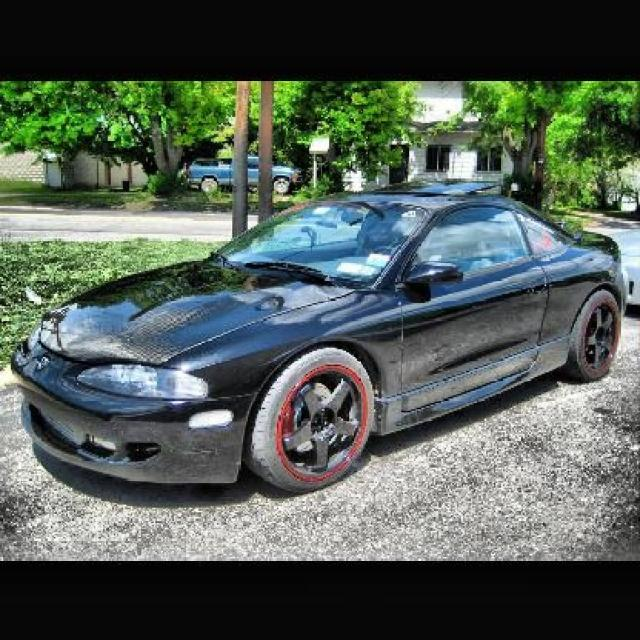black: (17, 181, 628, 486)
